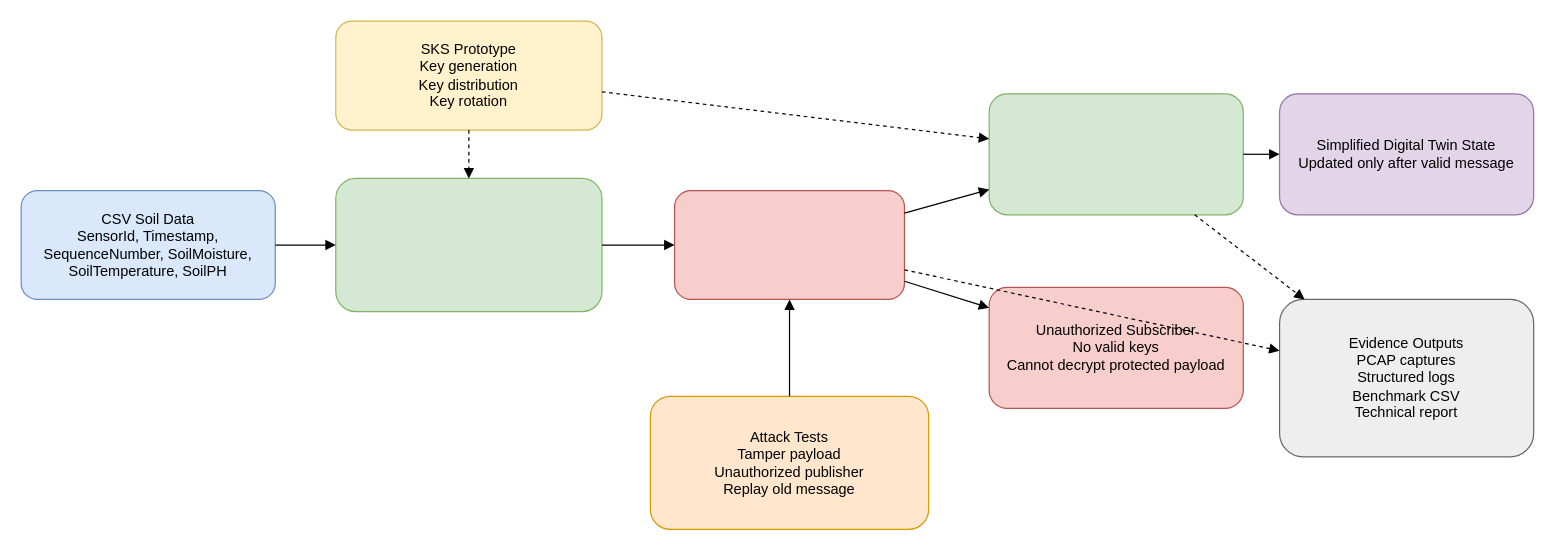
This 1555x551 diagram has some shape labels left out. Each missing label, with the centre of its shape:
"Authorized Subscriber Verify signature / decrypt Replay check" belongs at point (1115, 154).
"MQTT Broker Transport only No end-to-end trust" belongs at point (788, 244).
"Publisher Builds UADP-style message Modes: None / Sign / SignAndEncrypt" belongs at point (468, 244).
